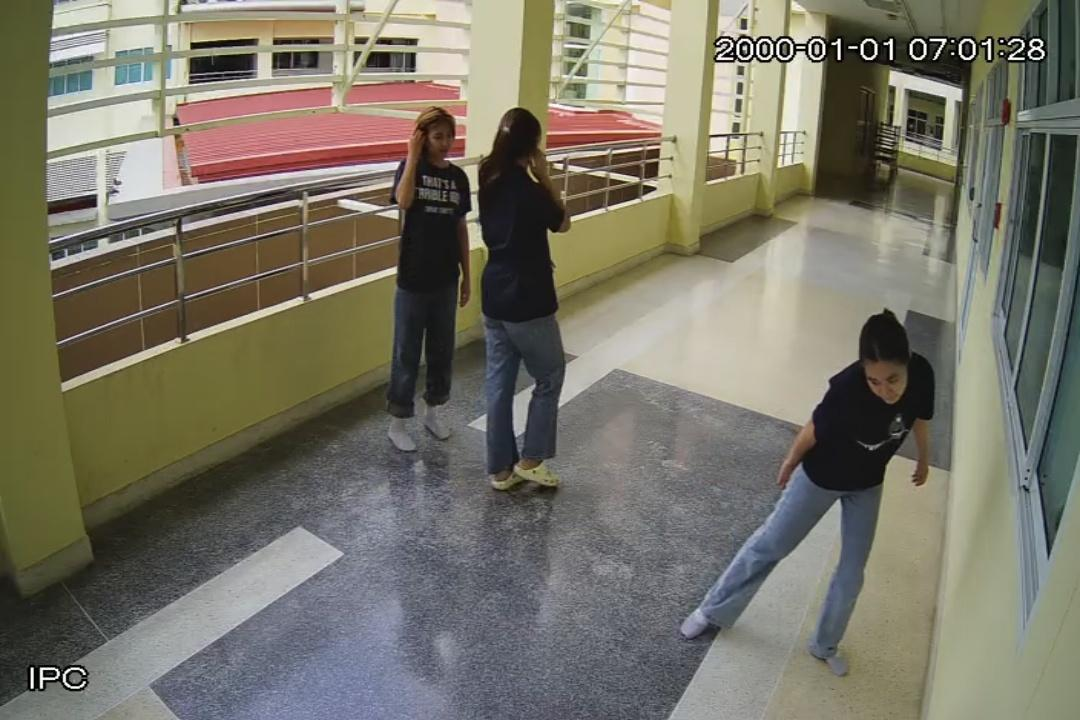normal: (676, 304, 954, 668), (478, 100, 576, 502), (380, 102, 464, 472)
